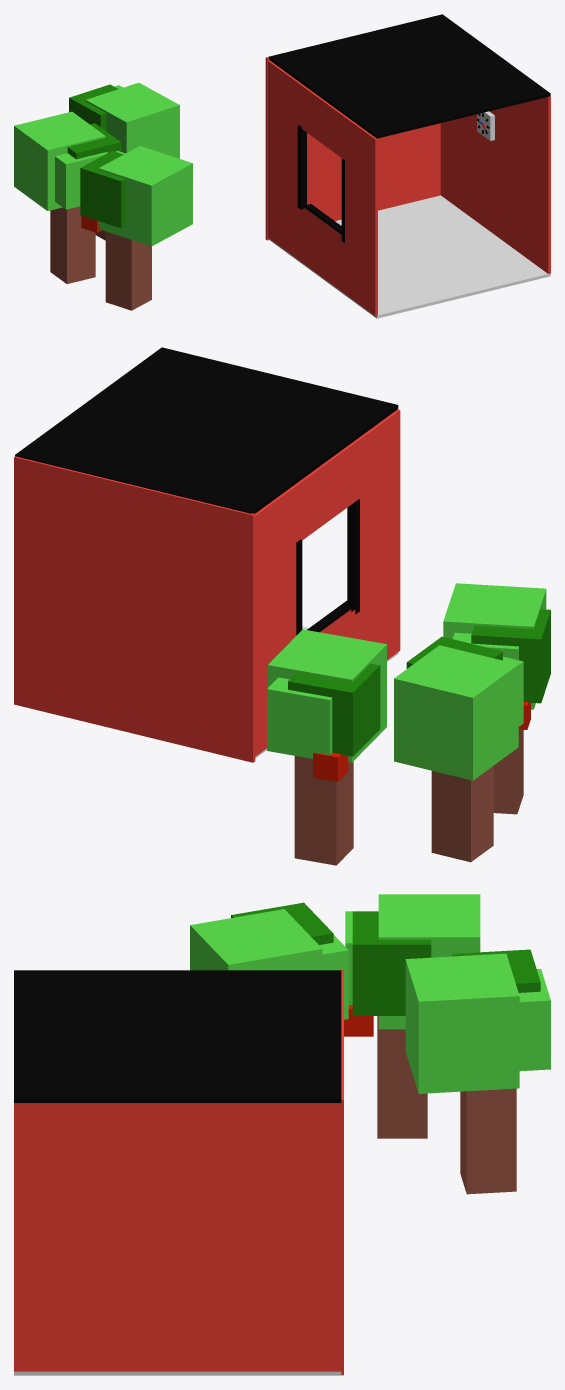
The model's file is room.glb.
3 views of the same model, one above another, from view 1: azimuth 30°, elevation 25°; view 2: azimuth 150°, elevation 25°; view 3: azimuth 270°, elevation 25° (orthographic). The views are drawn at different scales.
Parts seen in each view (by area): view 1: Cube.004, Cube.001, Cube.002, Cube, tree.002, tree, Cube.003, tree.001, Cube.007, Cube.009; view 2: Cube.003, Cube.004, Cube.001, tree, tree.001, tree.002, Cube.008, Cube.007; view 3: Cube.002, Cube.004, tree.001, tree, tree.002, Cube, Cube.003.
Part boxes in pixels (x1,y1,x2,y2): Cube.004: (268,14,550,138); Cube.001: (268,60,377,316); Cube.002: (440,96,550,273); Cube: (269,195,550,318); tree.002: (80,146,192,310); tree: (14,111,121,283); Cube.003: (265,57,440,240); tree.001: (69,82,179,240); Cube.007: (297,125,306,209); Cube.009: (477,111,494,140); Cube.003: (14,456,255,762); Cube.004: (15,347,398,513); Cube.001: (255,409,400,756); tree: (394,636,523,862); tree.001: (267,629,386,865); tree.002: (443,583,550,814); Cube.008: (347,499,359,614); Cube.007: (296,539,302,635); Cube.002: (14,1103,341,1371); Cube.004: (14,970,341,1103); tree.001: (405,949,550,1194); tree: (344,894,480,1138); tree.002: (190,902,348,1019); Cube: (14,1371,341,1375); Cube.003: (339,970,343,1375).
Size of the model in its own units: 17.63 by 8.35 by 14.14.
